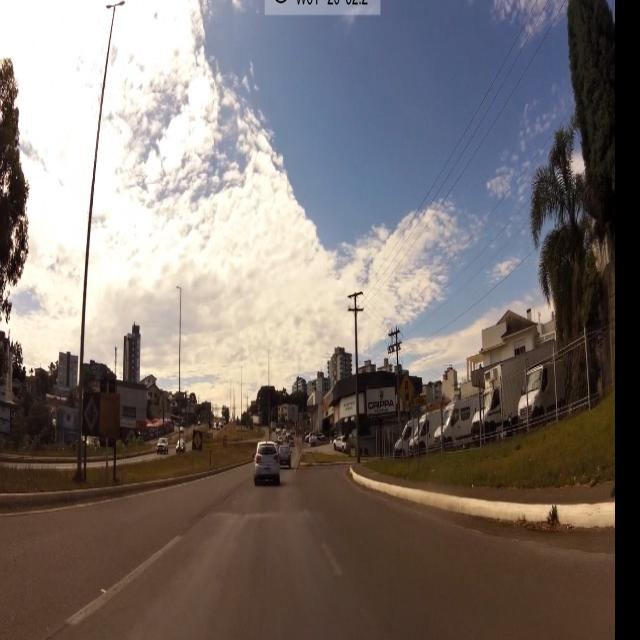A-14: (398, 375, 415, 408)
